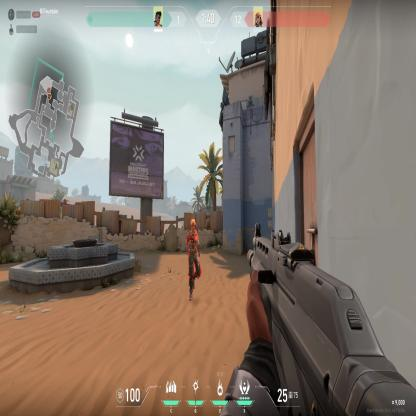enemy: (185, 217, 202, 301)
